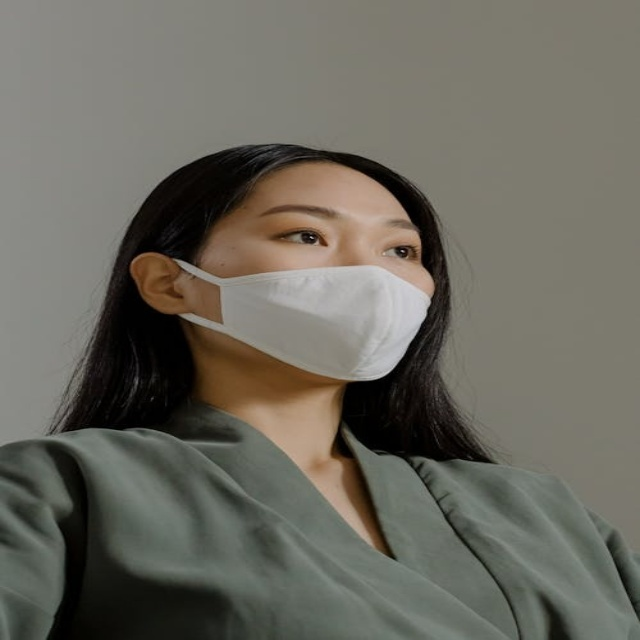Mascara: (168, 258, 433, 381)
Sin_gafas: (253, 200, 425, 270)
